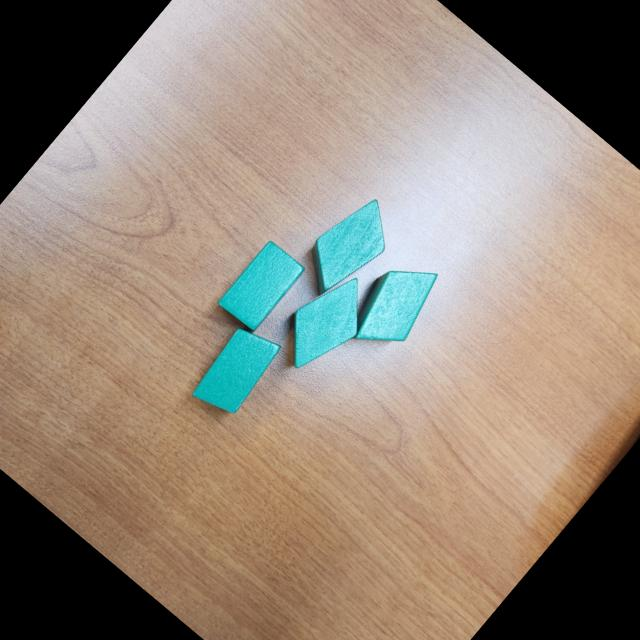green: (268, 262, 386, 386), (288, 186, 406, 310), (338, 245, 450, 363), (187, 316, 288, 422), (214, 237, 308, 335)
